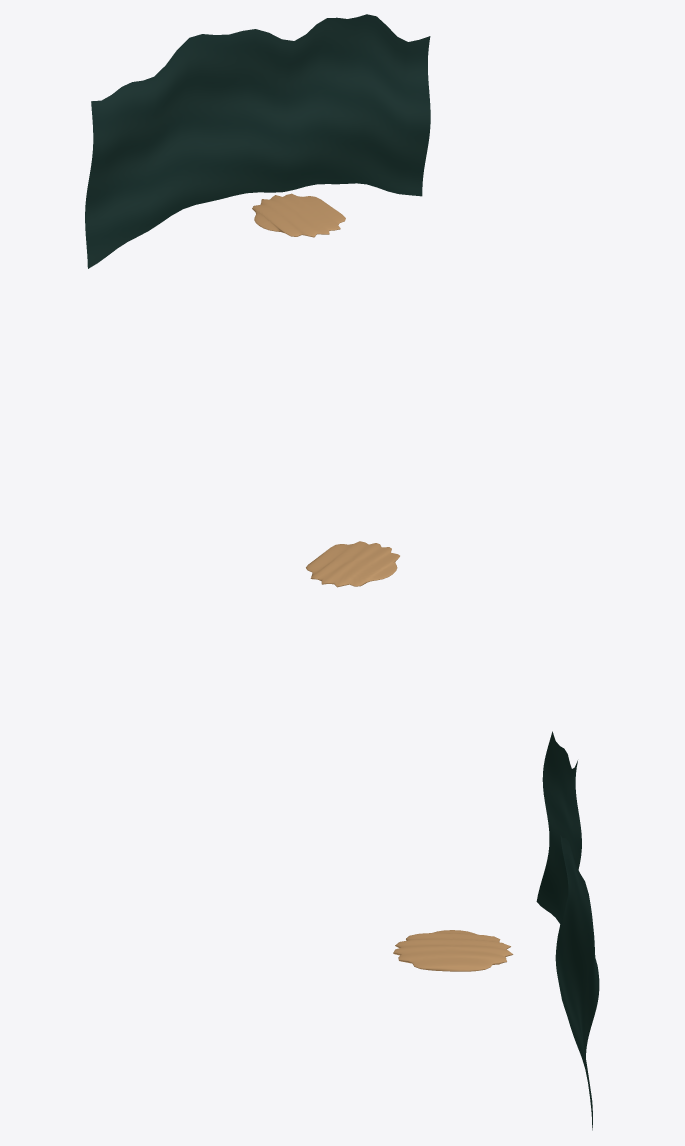
The model's file is home-ground-place-v191.glb.
3 renders of one model, top to bottom at view 1: azimuth 30°, elevation 25°; view 2: azimuth 150°, elevation 25°; view 3: azimuth 270°, elevation 25°, orthographic. The views are drawn at different scales.
Parts seen in each view (by area): view 1: home-v197-ground-continuous-sheltering-memory-wall, home-v203-ground-embedded-weathered-hearth; view 2: home-v203-ground-embedded-weathered-hearth; view 3: home-v197-ground-continuous-sheltering-memory-wall, home-v203-ground-embedded-weathered-hearth.
Boxes of the visible parts, bbox=[...] form: home-v197-ground-continuous-sheltering-memory-wall: bbox=[85, 14, 430, 268]; home-v203-ground-embedded-weathered-hearth: bbox=[252, 193, 345, 237]; home-v203-ground-embedded-weathered-hearth: bbox=[306, 541, 399, 587]; home-v197-ground-continuous-sheltering-memory-wall: bbox=[536, 731, 599, 1130]; home-v203-ground-embedded-weathered-hearth: bbox=[393, 930, 513, 971].
Bounding box in the file's own units: 6.8 × 3.4 × 8.25.
